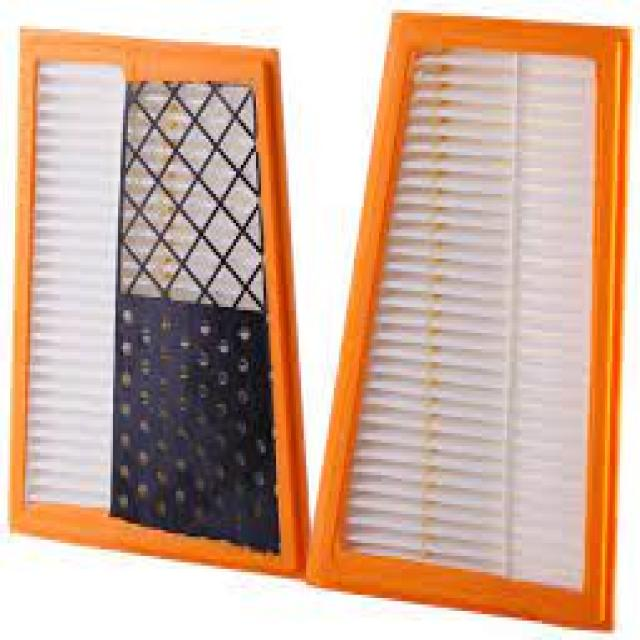air_filter: (305, 24, 636, 637), (12, 30, 300, 558)
